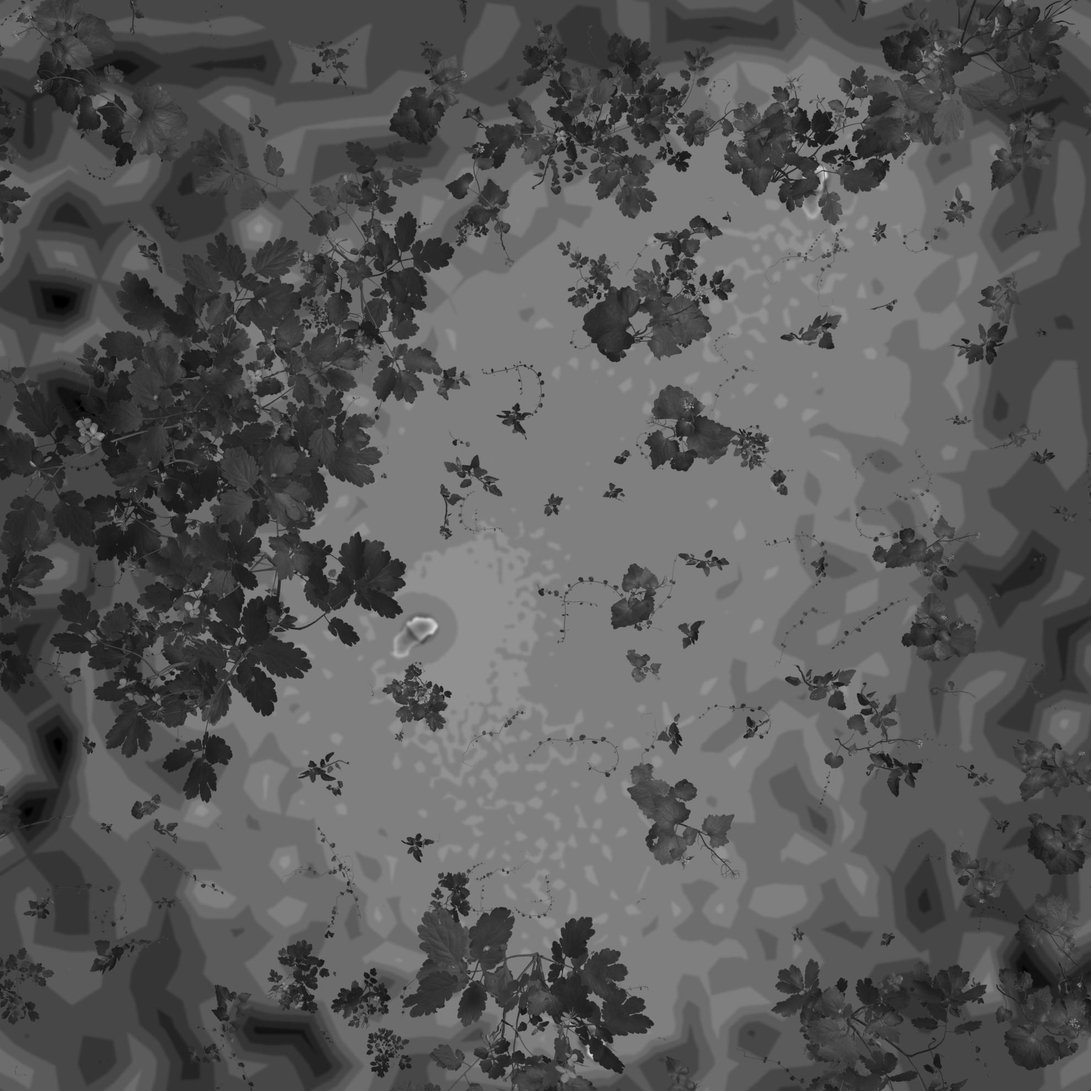landmine: (387, 613, 440, 662)
